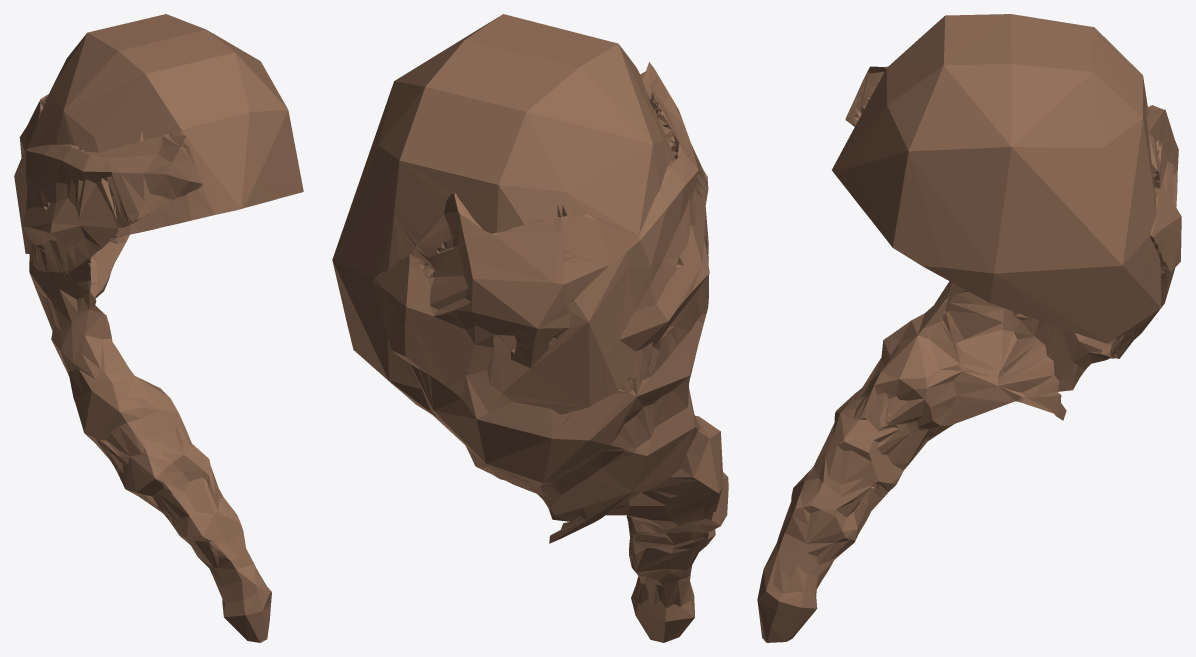
The model's file is Hair_braid_LOD1.glb.
3 renders of one model, left to right at view 1: azimuth 30°, elevation 25°; view 2: azimuth 150°, elevation 25°; view 3: azimuth 270°, elevation 25°, orthographic. The views are drawn at different scales.
Parts seen in each view (by area): view 1: Hair_braid_LOD1; view 2: Hair_braid_LOD1; view 3: Hair_braid_LOD1.
Boxes of the visible parts, x1,y1,x2,y2 form: Hair_braid_LOD1: (14, 14, 303, 642); Hair_braid_LOD1: (332, 14, 728, 642); Hair_braid_LOD1: (757, 14, 1181, 642).
Size of the model in its own units: 0.2214 by 0.4534 by 0.2883.
